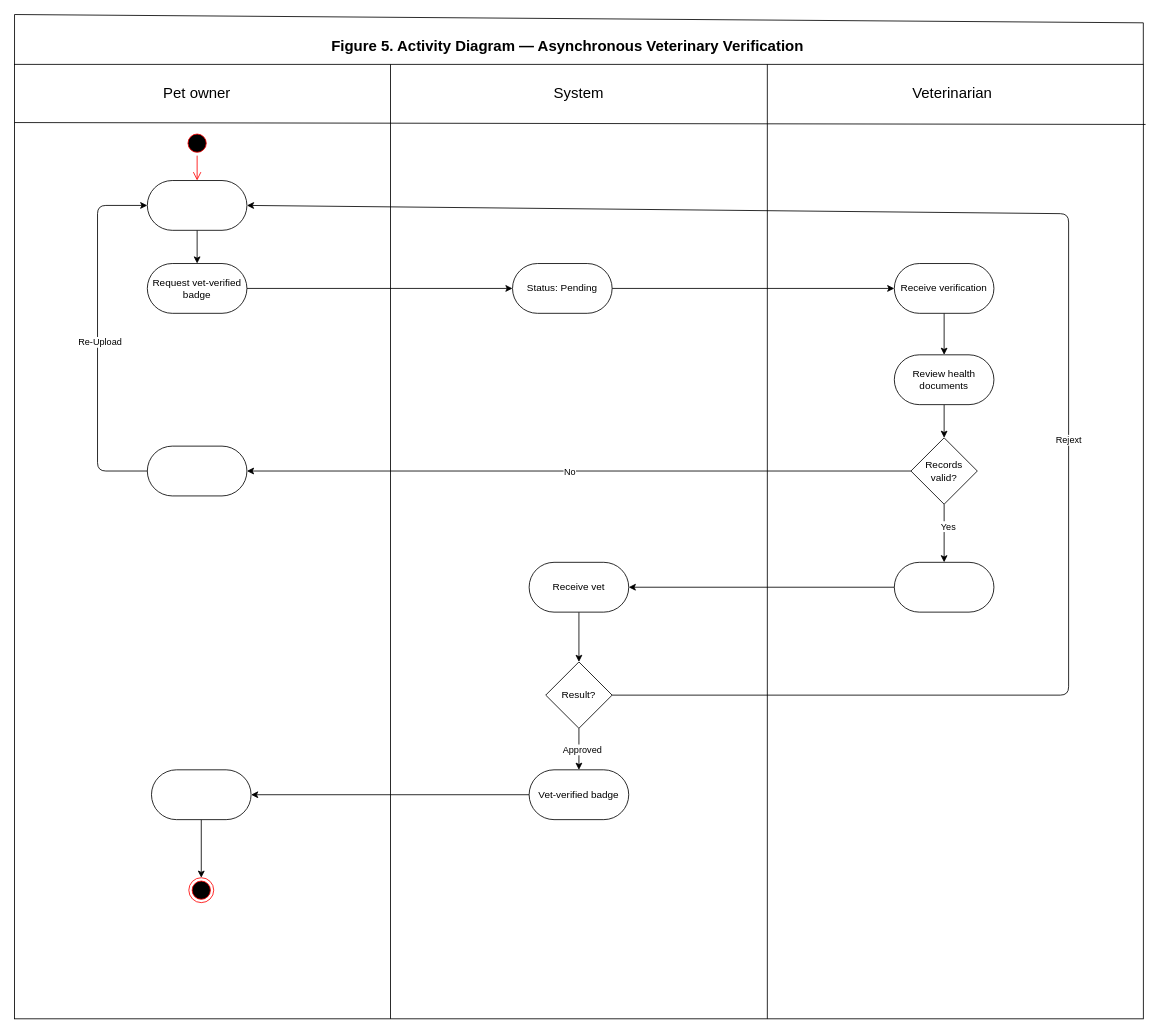
Some shapes in this 1161 by 1033 pixel diagram are drawn without their labels. Each missing label, with the centre of its shape:
Issue vet-verified badge: the point at 943,586
Pet owner notified: the point at 201,794
Reject: the point at 196,470
Upload health documents: the point at 196,205
